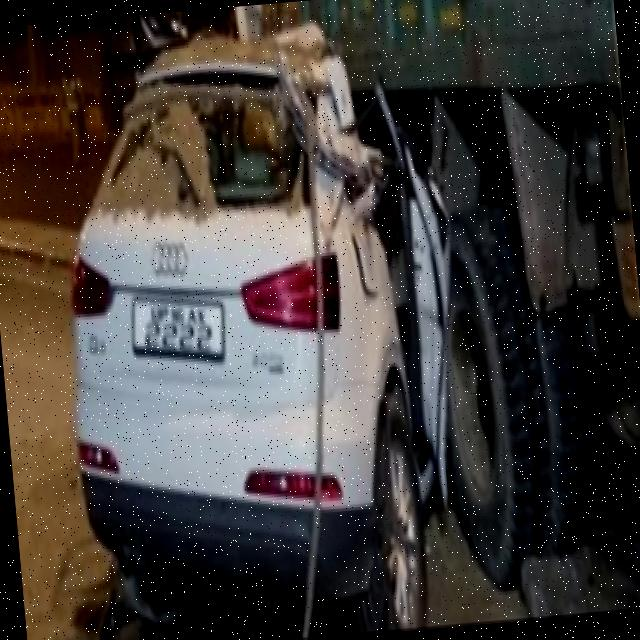Autre: (124, 288, 230, 367)
